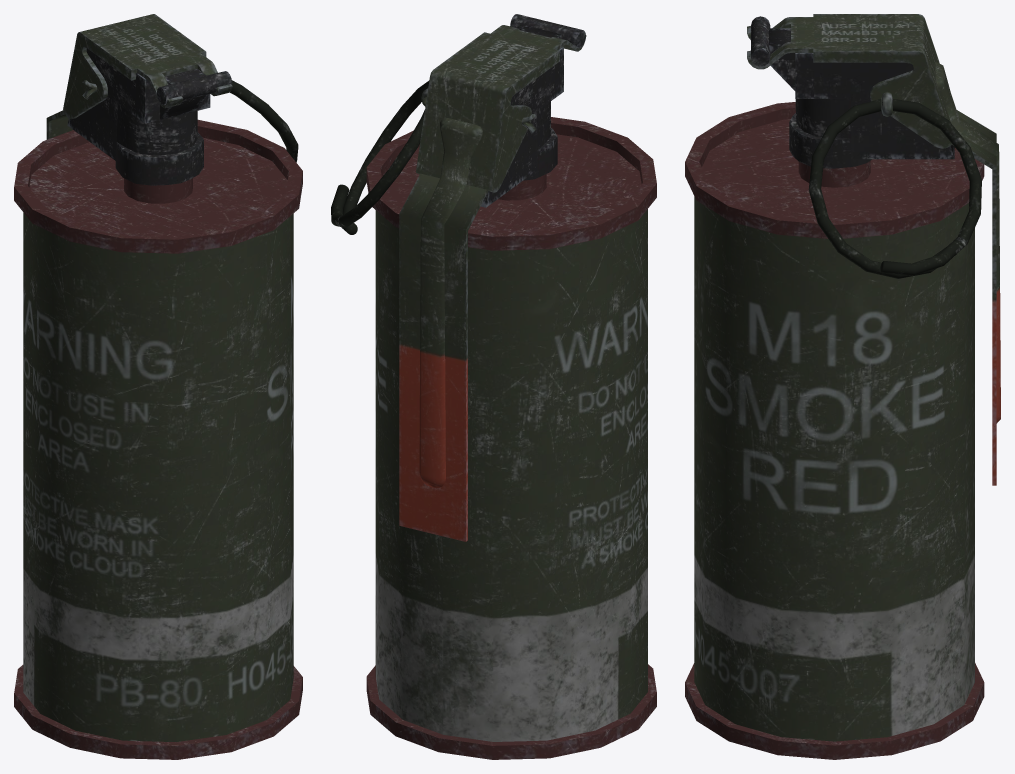
3 renders of one model, left to right at view 1: azimuth 30°, elevation 25°; view 2: azimuth 150°, elevation 25°; view 3: azimuth 270°, elevation 25°, orthographic. The views are drawn at different scales.
Visible parts, largest first — view 1: m18_body, spoon, pin; view 2: m18_body, spoon, pin; view 3: m18_body, spoon, pin.
Boxes of the visible parts, <box> form: m18_body: <box>14,104,302,759</box>; spoon: <box>46,14,232,161</box>; pin: <box>82,80,298,162</box>; m18_body: <box>366,101,656,759</box>; spoon: <box>399,14,586,541</box>; pin: <box>331,80,536,234</box>; m18_body: <box>685,99,984,759</box>; spoon: <box>747,14,1000,485</box>; pin: <box>808,91,981,278</box>.
Bounding box in the file's own units: 0.0647 × 0.145 × 0.0625.
1 material, 1 textured.
